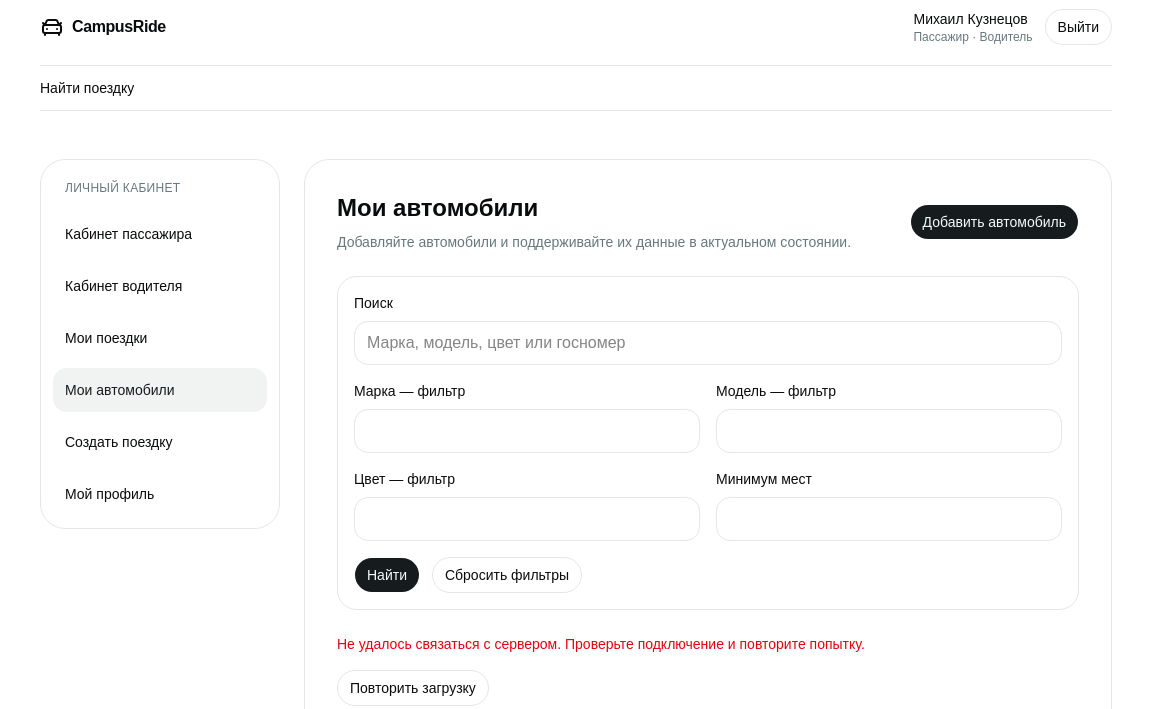
Экран автомобилей › позволяет повторить загрузку после ошибки
Expected: the message "Не удалось связаться с сервером. Проверьте подключение и повторите попытку." is shown, [337,636,865,652]
Click the button "Повторить загрузку": x=413, y=688 [337,670,489,706]
(page scrolled)
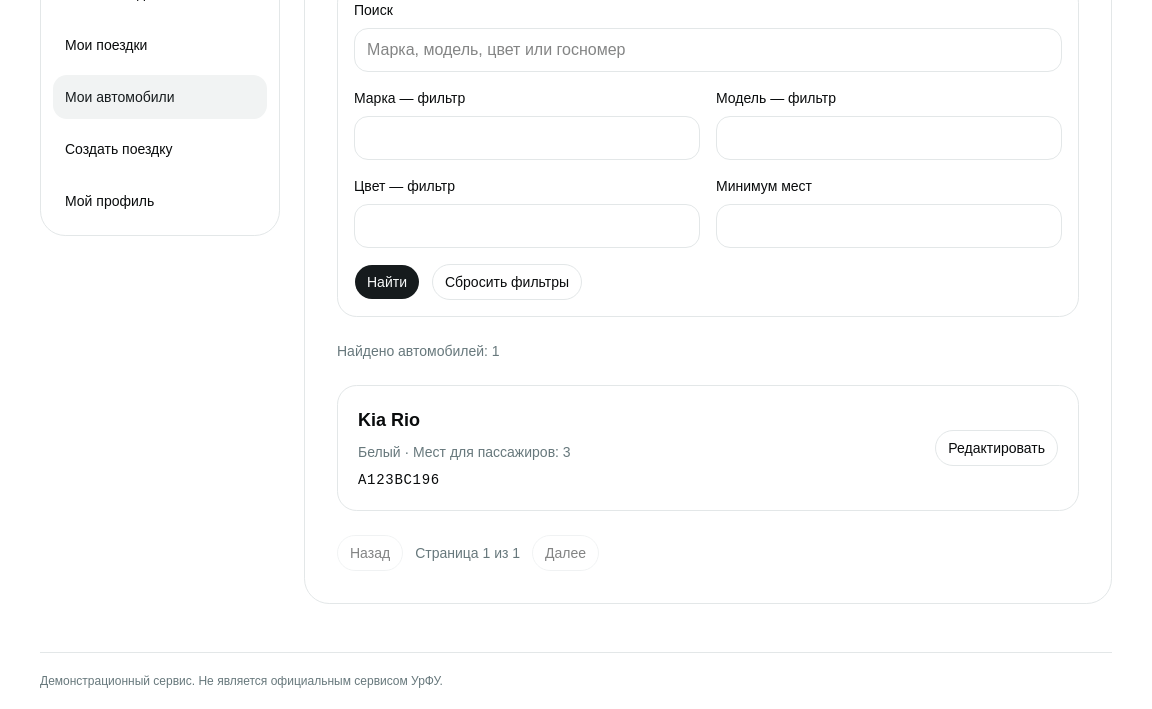
Now the text "A123BC196" is shown, box [358,472,440,488]
